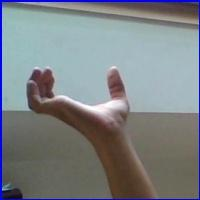B: (19, 59, 132, 138)
